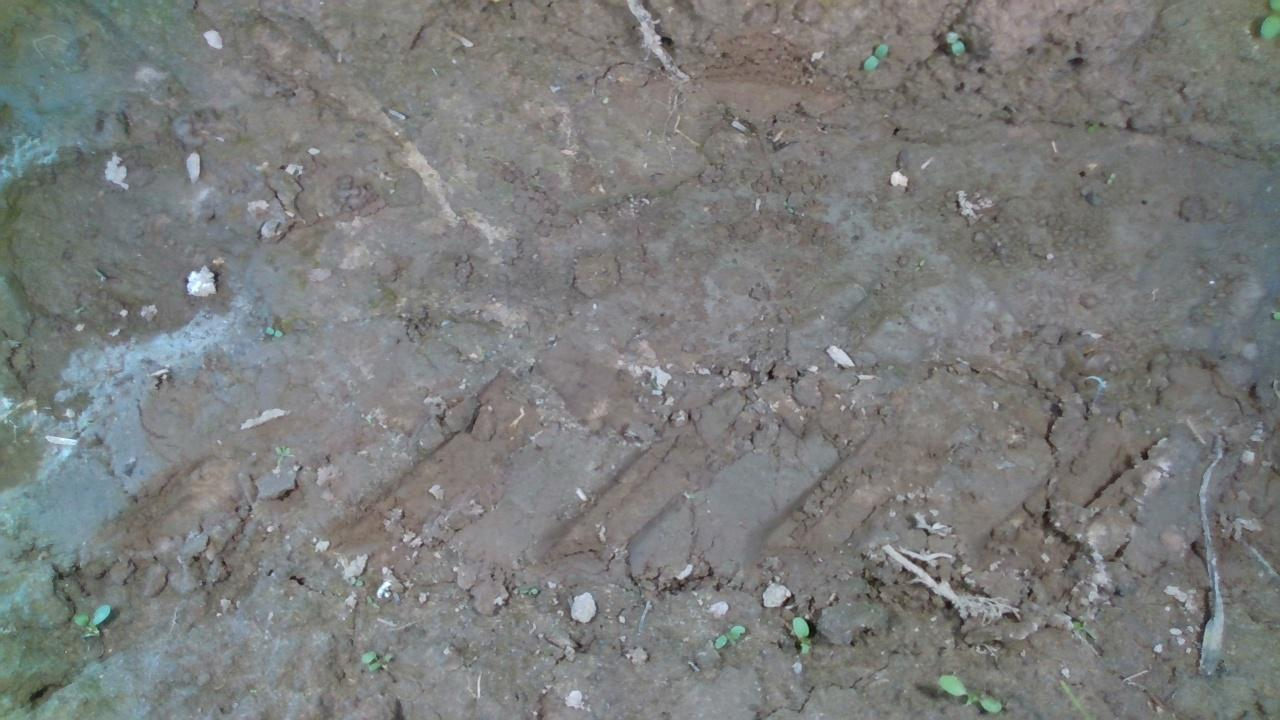weed: (933, 670, 1002, 713), (69, 601, 111, 638), (791, 614, 813, 653), (710, 623, 744, 648), (358, 649, 394, 671), (862, 41, 888, 71), (944, 30, 965, 56), (263, 325, 284, 338), (1104, 171, 1116, 186)
